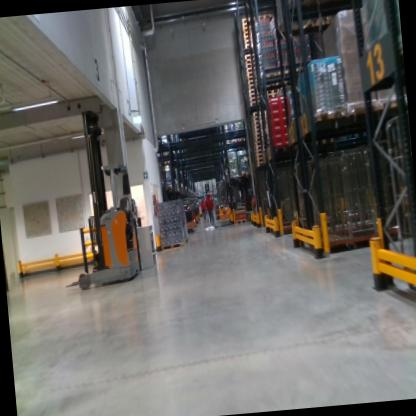forklift: (52, 98, 145, 298)
pallet: (300, 104, 349, 136), (339, 95, 382, 124), (375, 92, 407, 116), (249, 109, 269, 118), (251, 113, 270, 122), (240, 36, 256, 46), (252, 13, 271, 21), (239, 17, 257, 25), (239, 34, 255, 42), (265, 89, 280, 97), (267, 91, 280, 100), (250, 118, 264, 126), (252, 140, 266, 148), (264, 72, 280, 79), (240, 25, 254, 33), (242, 43, 256, 51), (242, 57, 257, 64), (245, 84, 260, 91), (252, 132, 265, 140), (240, 29, 253, 37), (243, 53, 256, 61), (252, 135, 266, 142), (240, 21, 254, 28), (248, 102, 264, 108), (248, 97, 261, 104), (267, 80, 278, 88), (252, 124, 264, 131), (243, 67, 257, 73), (251, 128, 264, 134), (252, 150, 265, 156), (243, 63, 257, 68), (254, 158, 265, 164), (252, 154, 265, 159), (244, 80, 257, 85), (247, 89, 260, 94), (247, 93, 260, 98), (246, 72, 257, 77), (246, 76, 257, 81), (253, 146, 264, 150), (254, 163, 265, 167)
pallet_truck: (212, 177, 232, 230)
